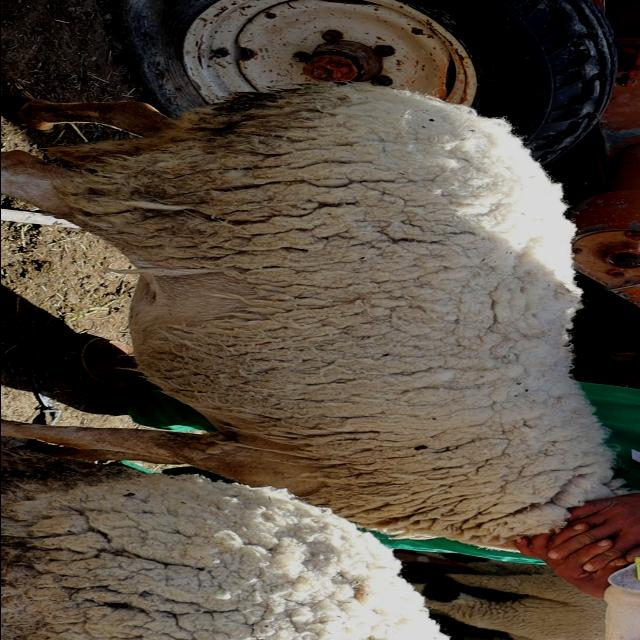Score_5: (1, 82, 617, 551)
